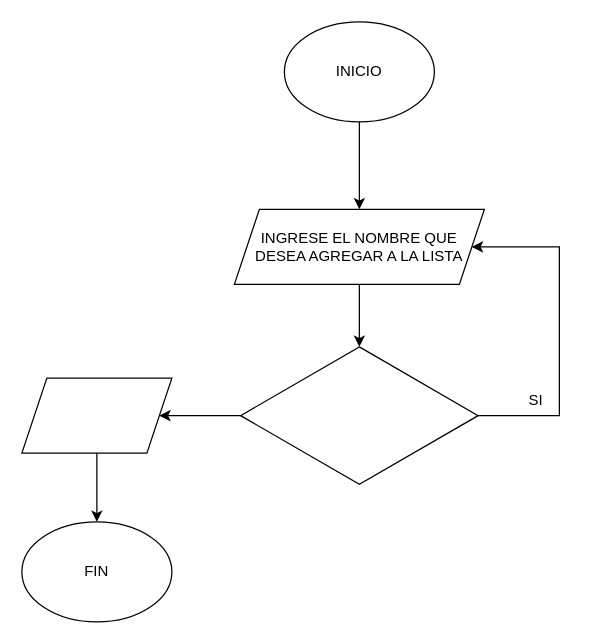
The diagram is 591 pixels wide and 644 high, and some of its shapes have lost their labels. The centre of each missing label's shape, as x and y in pixels:
DESEA AGREGAR OTRO NOMBRE?: pixel 358 415
LISTA: pixel 96 415
